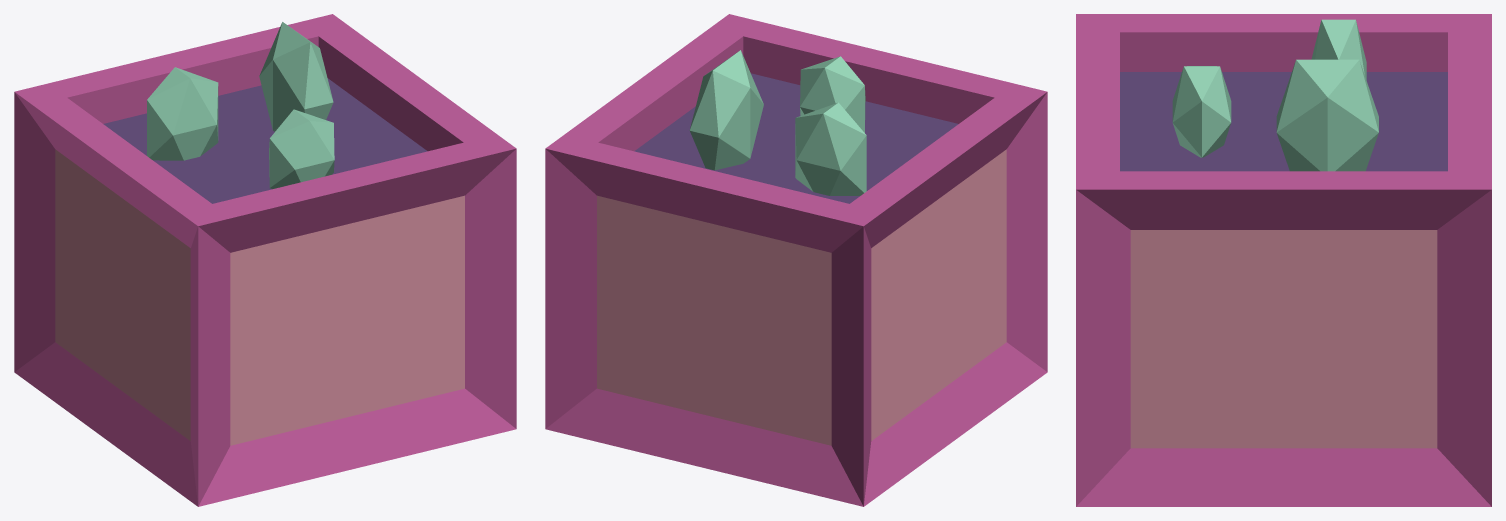
File: crate.glb
3 renders of one model, left to right at view 1: azimuth 30°, elevation 25°; view 2: azimuth 150°, elevation 25°; view 3: azimuth 270°, elevation 25°, orthographic. The views are drawn at different scales.
Parts seen in each view (by area): view 1: Crate, Sprouts; view 2: Crate, Sprouts; view 3: Crate, Sprouts.
Boxes of the visible parts, <box> form: Crate: <box>14,14,516,506</box>; Sprouts: <box>147,22,334,188</box>; Crate: <box>545,14,1047,506</box>; Sprouts: <box>689,50,866,195</box>; Crate: <box>1076,14,1491,506</box>; Sprouts: <box>1172,19,1378,171</box>.
Size of the model in its own units: 0.76 by 0.781 by 0.76.
